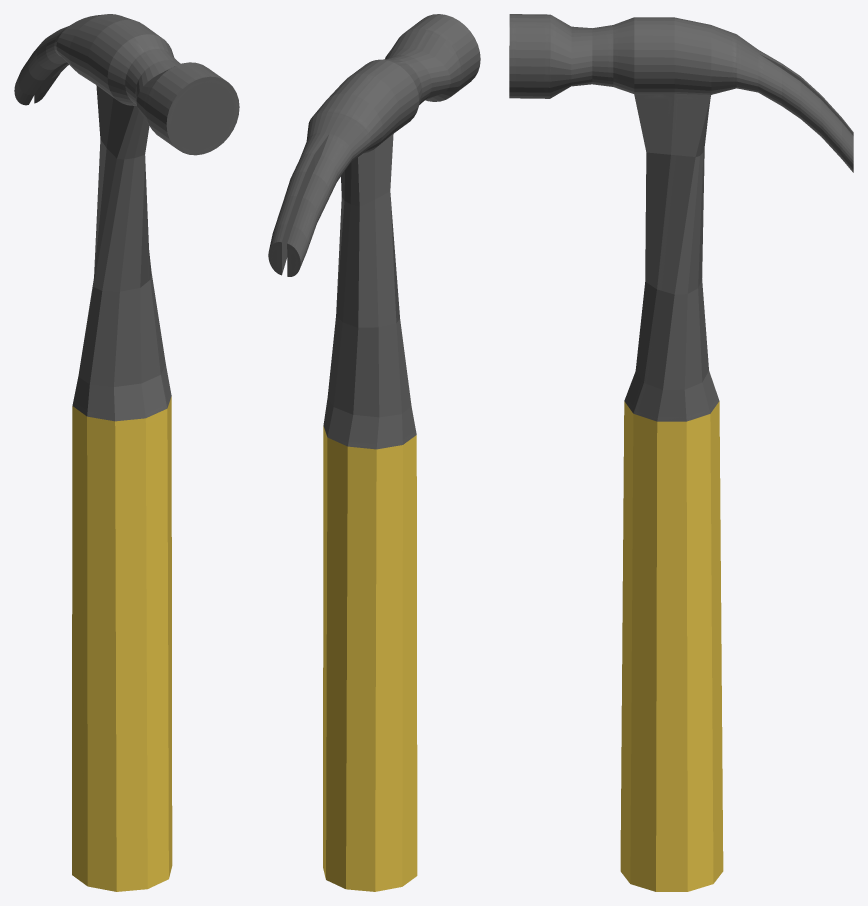
File: JBayer_Hammer.fbx
3 renders of one model, left to right at view 1: azimuth 30°, elevation 25°; view 2: azimuth 150°, elevation 25°; view 3: azimuth 270°, elevation 25°, orthographic. The views are drawn at different scales.
Visible parts, largest first — view 1: Hammer; view 2: Hammer; view 3: Hammer.
Part boxes in pixels (box(x1,y1,x2,y2)): Hammer: box(14, 14, 239, 891); Hammer: box(268, 14, 480, 891); Hammer: box(509, 14, 853, 891).
Bounding box in the file's own units: 9.51 × 91.58 × 33.5.
Materials: 1 (1 with a texture image).
